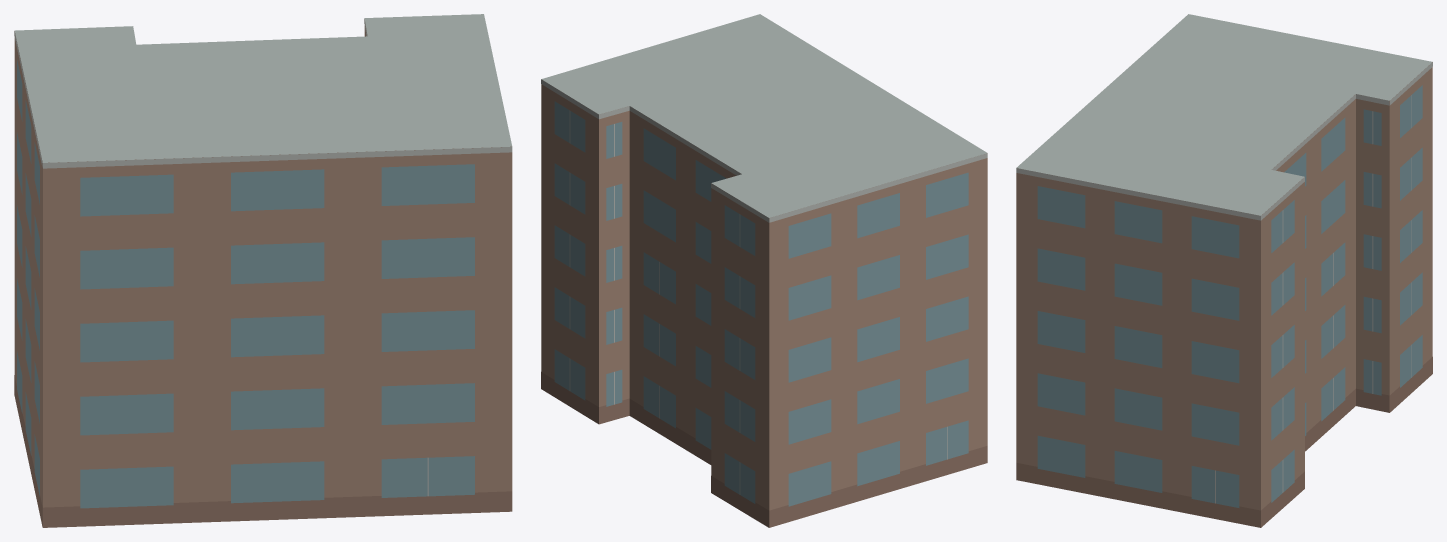
File: survey-upis-32632728.glb
The picture shows the model from 3 angles, left to right: view 1: azimuth 30°, elevation 25°; view 2: azimuth 150°, elevation 25°; view 3: azimuth 270°, elevation 25°; orthographic projection. The views are drawn at different scales.
Parts seen in each view (by area): view 1: survey-upis-32632728.tmp; view 2: survey-upis-32632728.tmp; view 3: survey-upis-32632728.tmp.
Boxes of the visible parts, left/top/right/bottom form: survey-upis-32632728.tmp: left=14, top=14, right=512, bottom=527; survey-upis-32632728.tmp: left=541, top=14, right=987, bottom=527; survey-upis-32632728.tmp: left=1016, top=14, right=1432, bottom=527.
Bounding box in the file's own units: 21.78 × 15.7 × 19.
